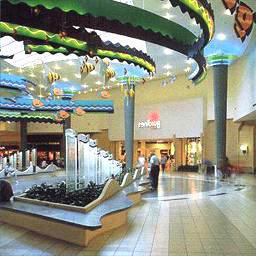Bote de Basura: (202, 161, 213, 182)
